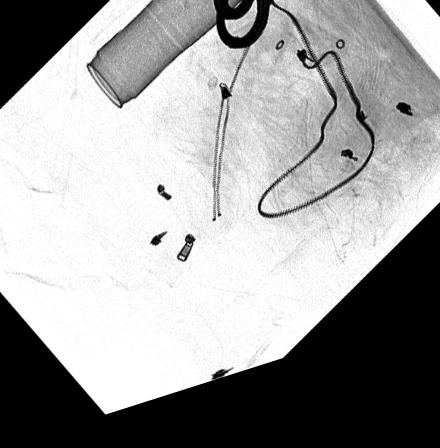HandCuffs: (212, 0, 269, 64)
